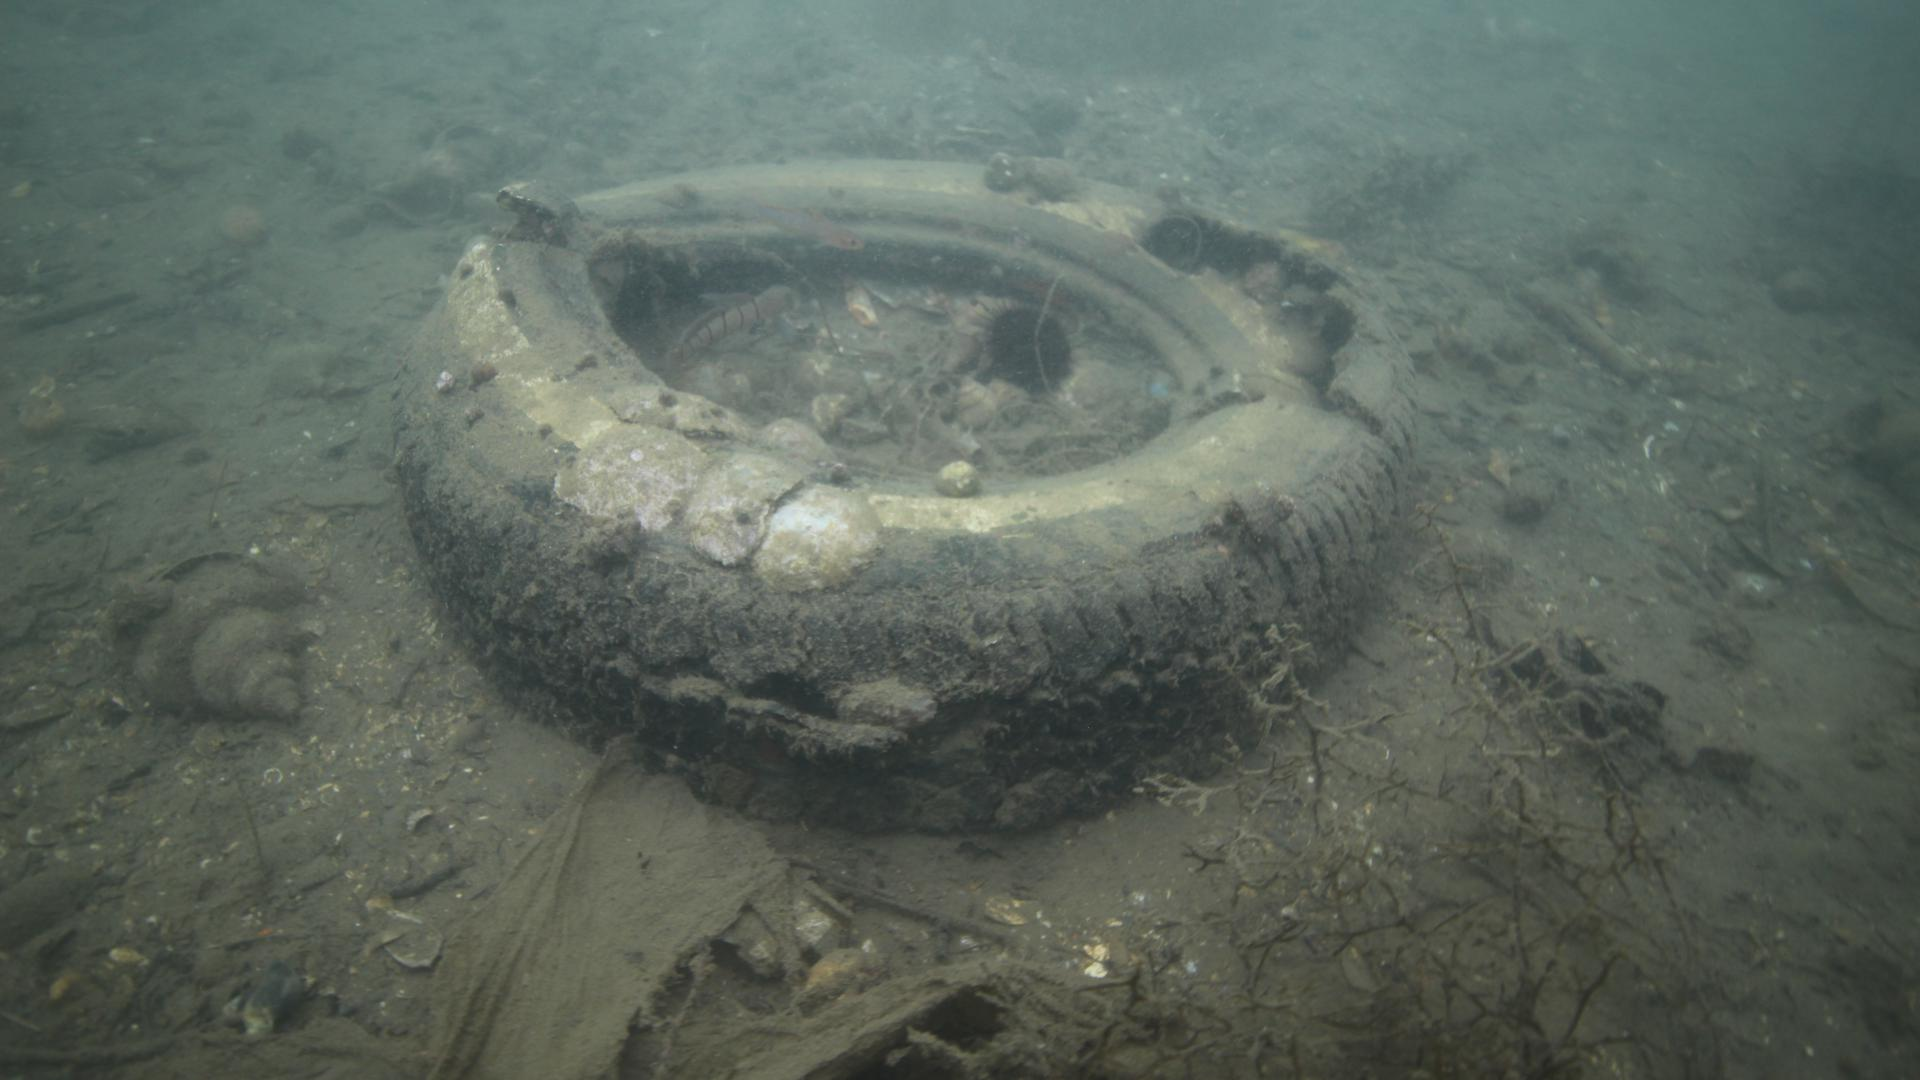tire: (386, 156, 1420, 833)
